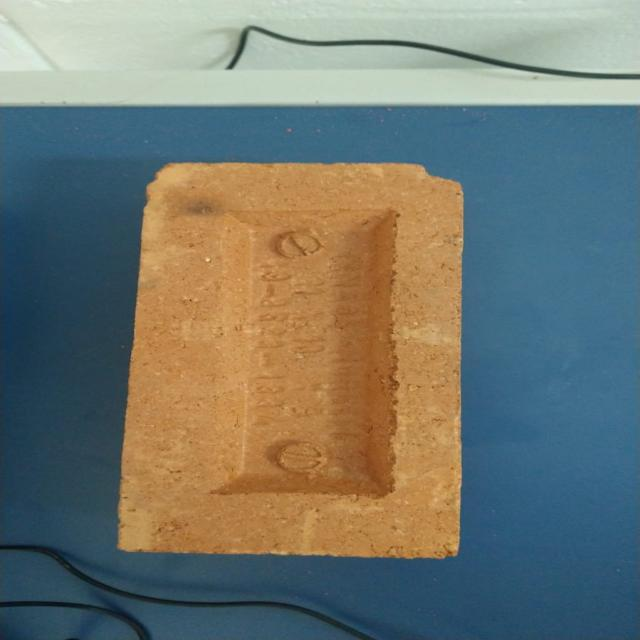bricks_ruin: (116, 161, 461, 561)
